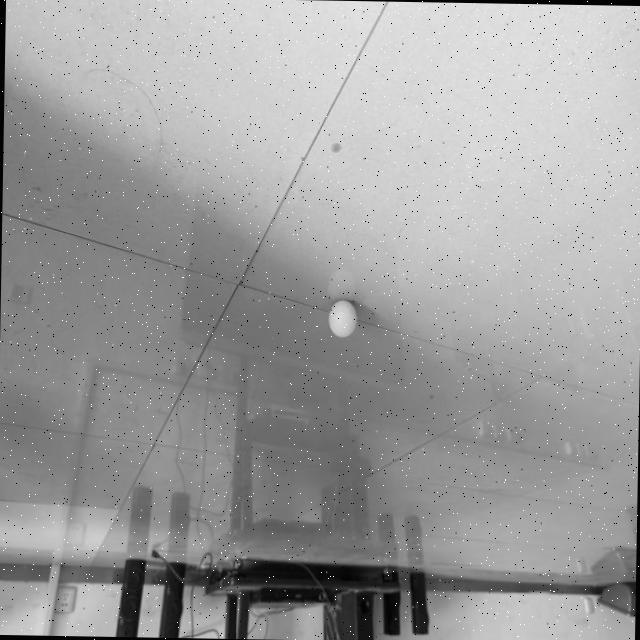ping-pong-ball: (328, 300, 357, 338)
